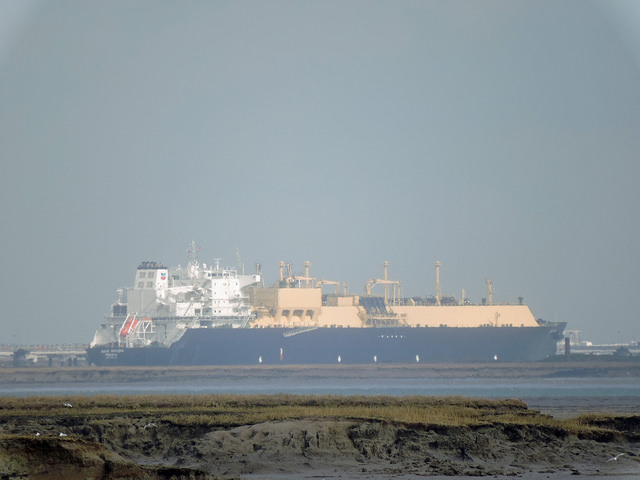LNG_ship: (82, 264, 570, 356)
